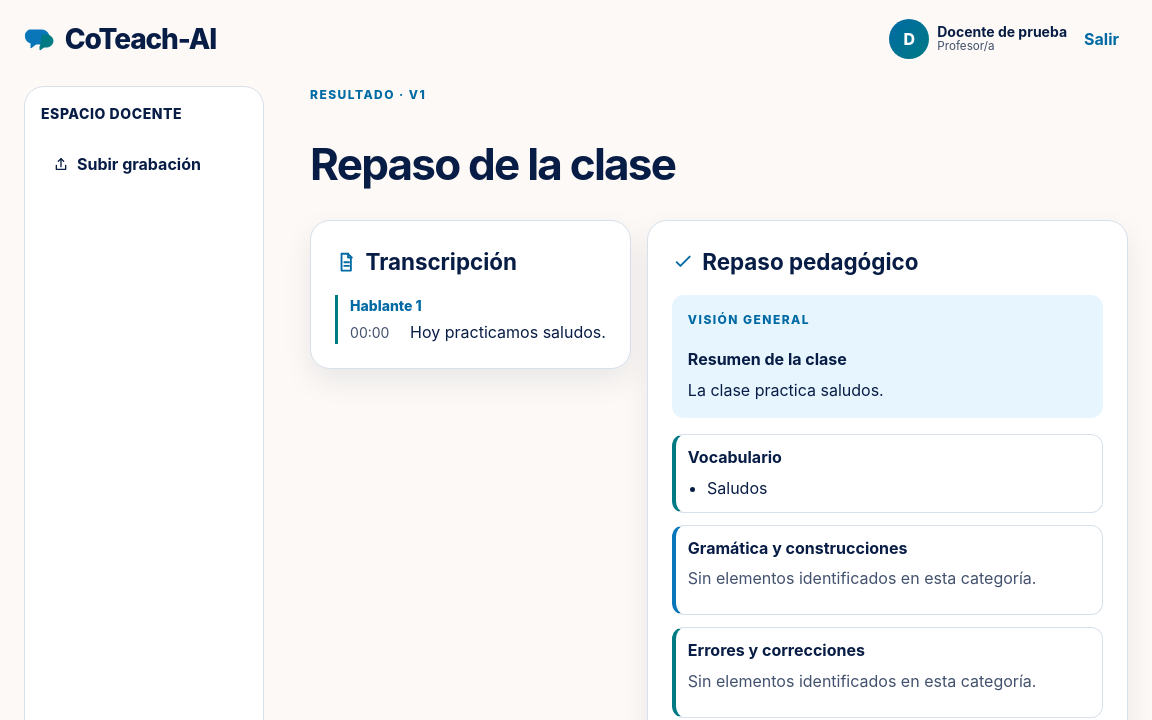
Test case: isolates result data when switching from teacher to student
Later steps or results of the test are not shown.
Expected: the heading "Repaso de la clase" is shown, [310, 137, 675, 191]
Step 1. Click the button "Salir" → [1102, 39], box [1075, 16, 1128, 62]
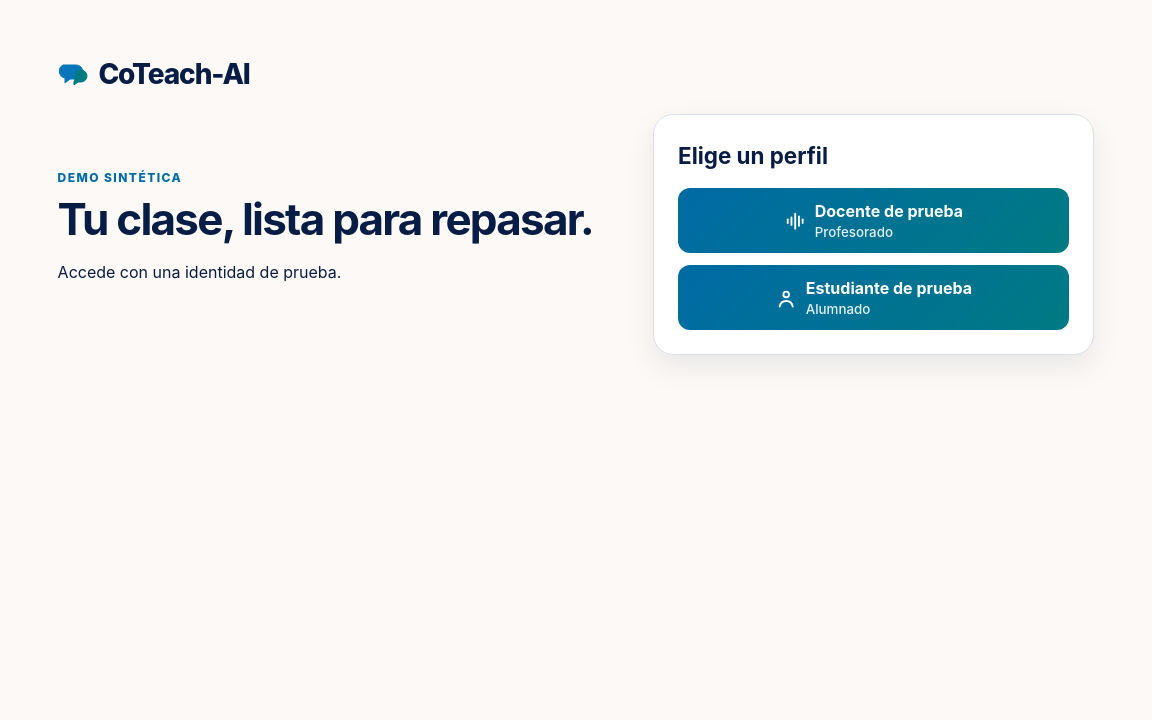
Expected: the heading "Tu clase, lista para repasar." is shown, [58, 195, 597, 244]
Step 2. Click the button "Estudiante de prueba Alumnado" → [874, 298], box [678, 265, 1069, 330]
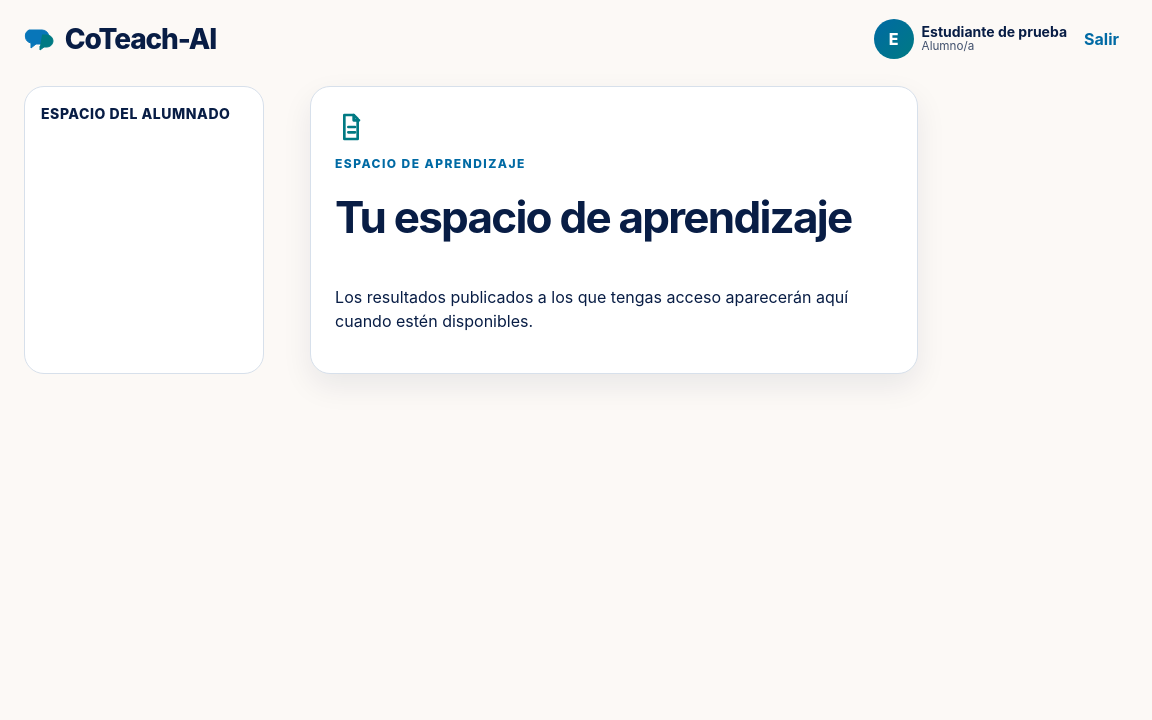
Expected: the heading "Tu espacio de aprendizaje" is shown, [335, 193, 893, 241]
